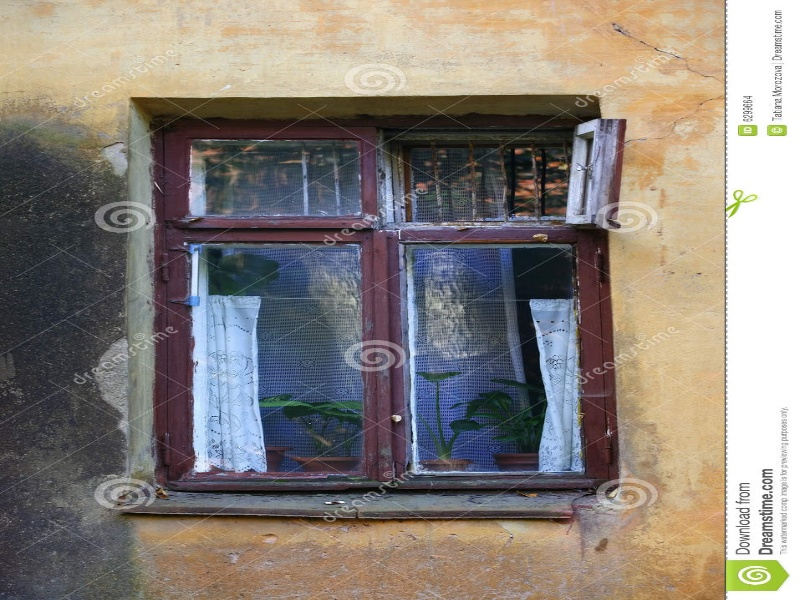window: (132, 91, 608, 492)
